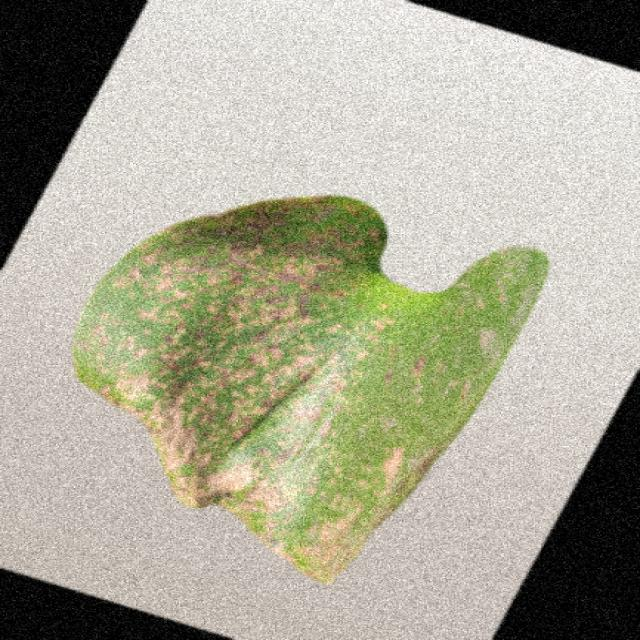daun berpenyakit bercak: (74, 197, 548, 582)
